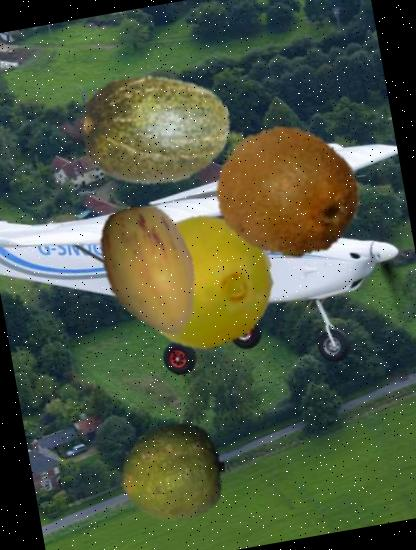Grape: (124, 202, 284, 362)
Kiwi: (204, 106, 374, 277)
Limes: (110, 410, 234, 534)
Melon: (68, 37, 241, 210)
Pepino: (70, 192, 230, 352)
